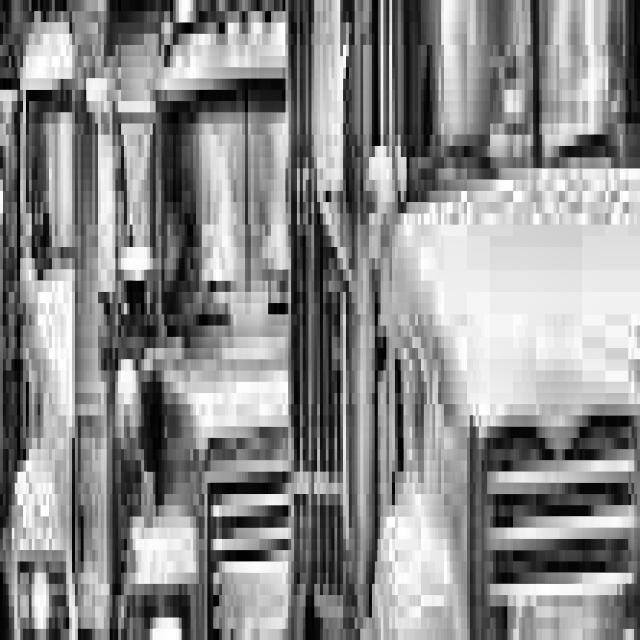dump_truck: (282, 0, 640, 640), (69, 0, 288, 640), (0, 0, 156, 640)
